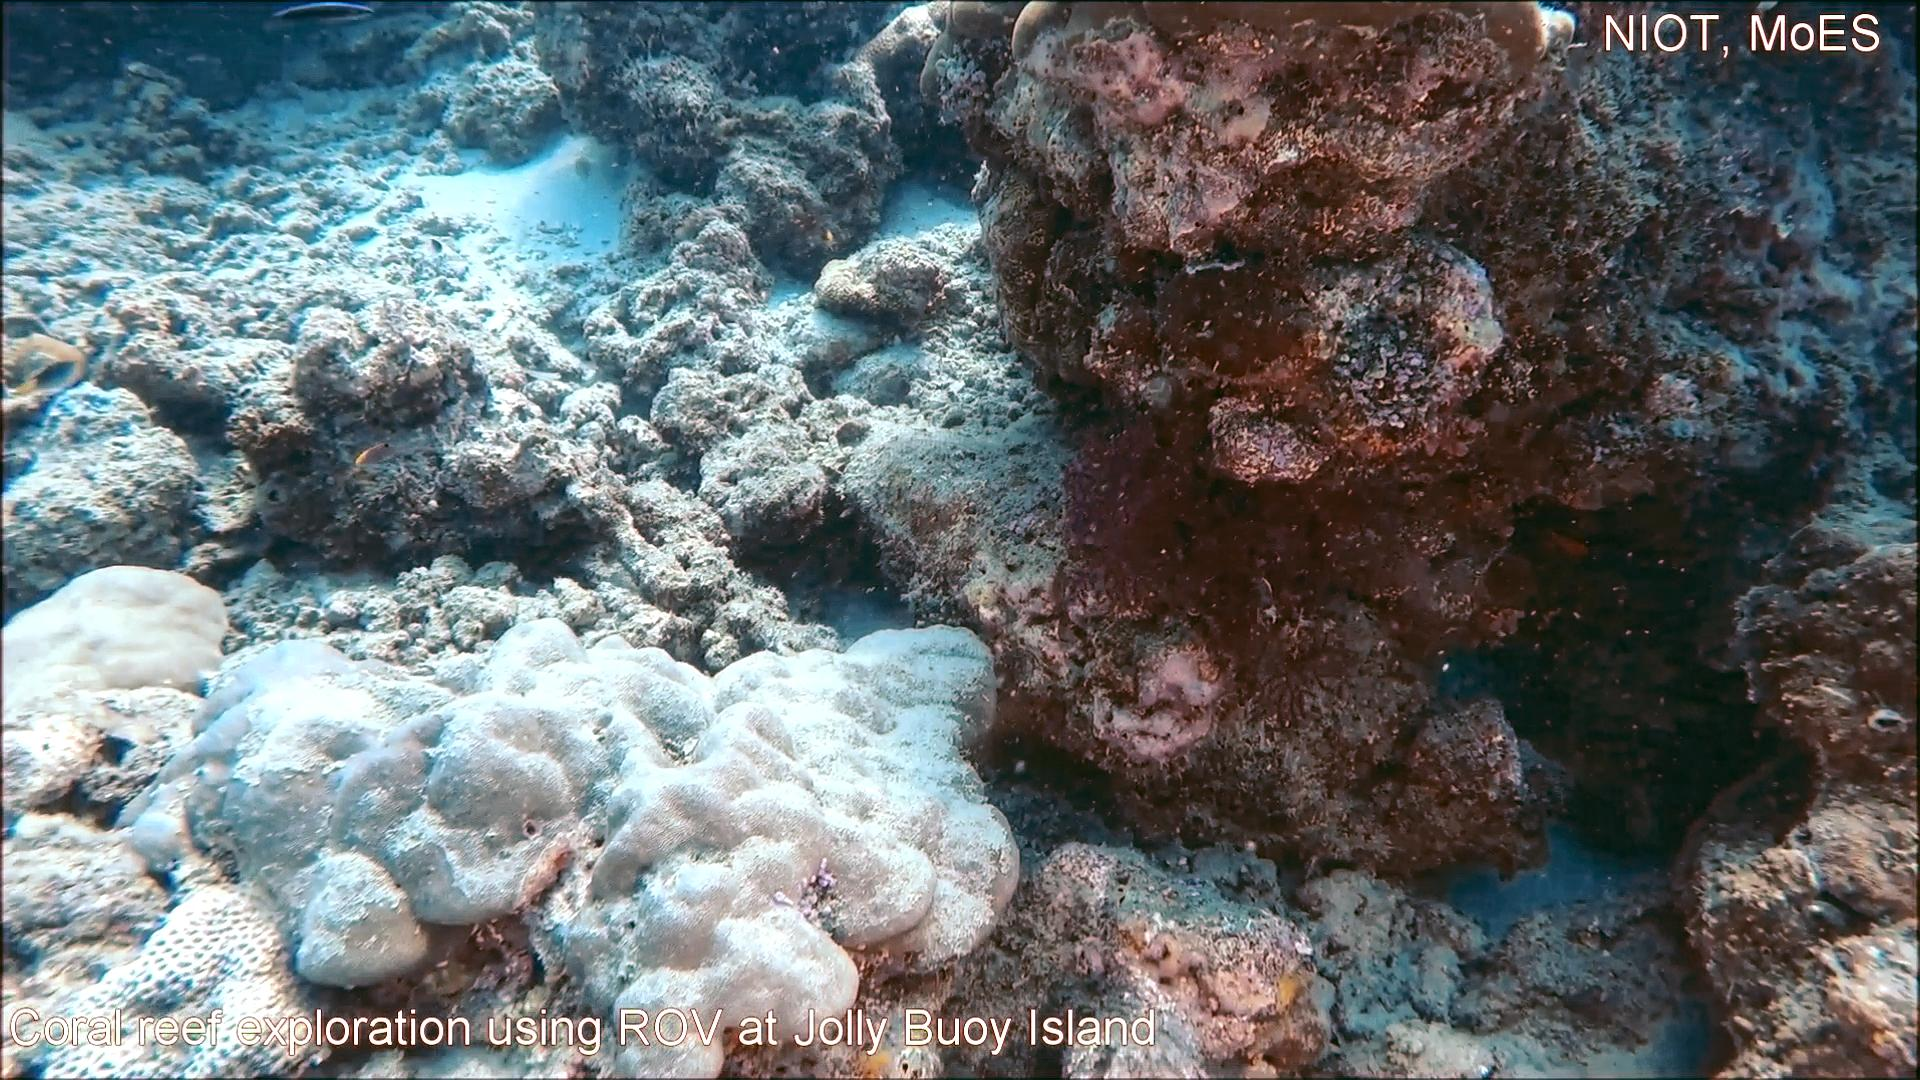Goniastrea-Goniastrea pectinata: (38, 874, 344, 1080)
Gorgonian-Purple Plexaura: (1056, 389, 1396, 745)
Porites-Porites pukoensis: (422, 612, 1026, 1080)
